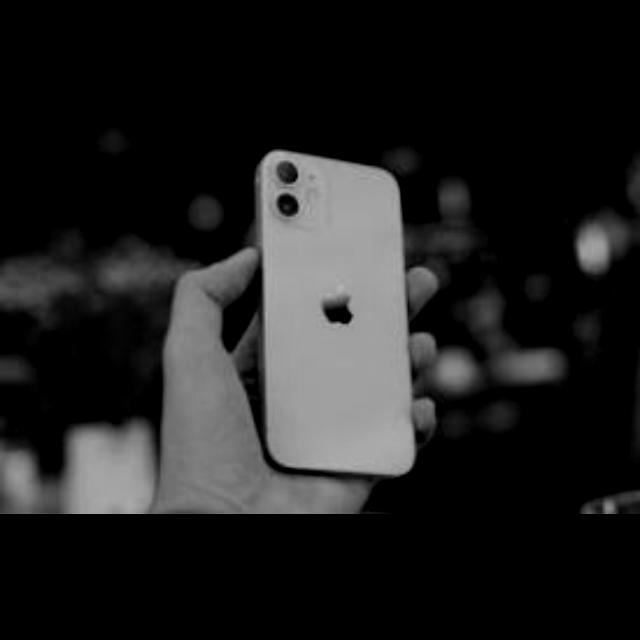fake: (236, 142, 414, 480)
